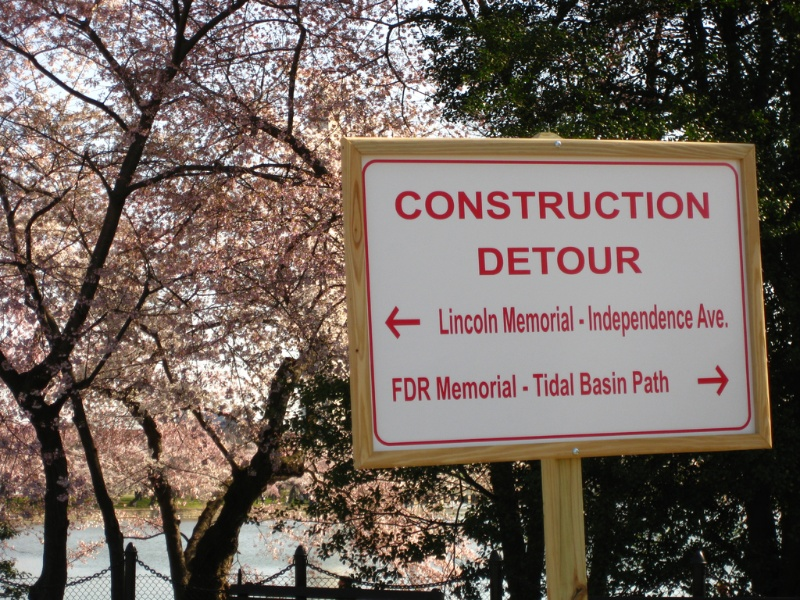left_direction: (381, 302, 424, 342)
right_direction: (693, 363, 733, 396)
